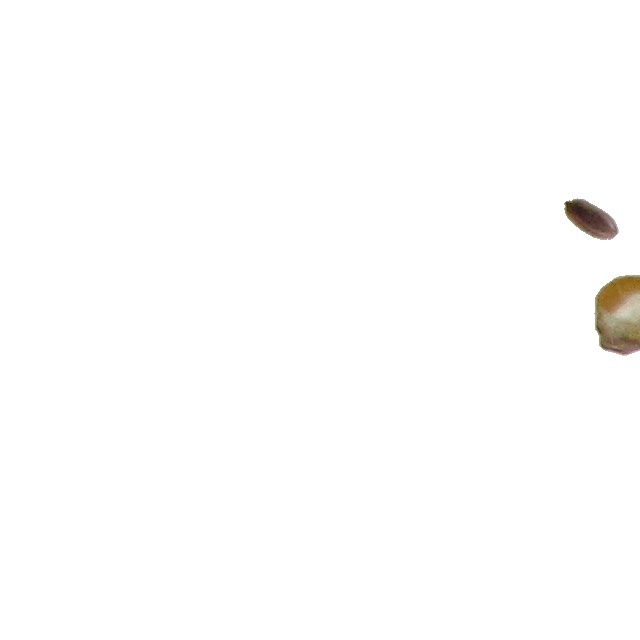buckwheat: (563, 197, 620, 241)
mais: (593, 274, 640, 357)
